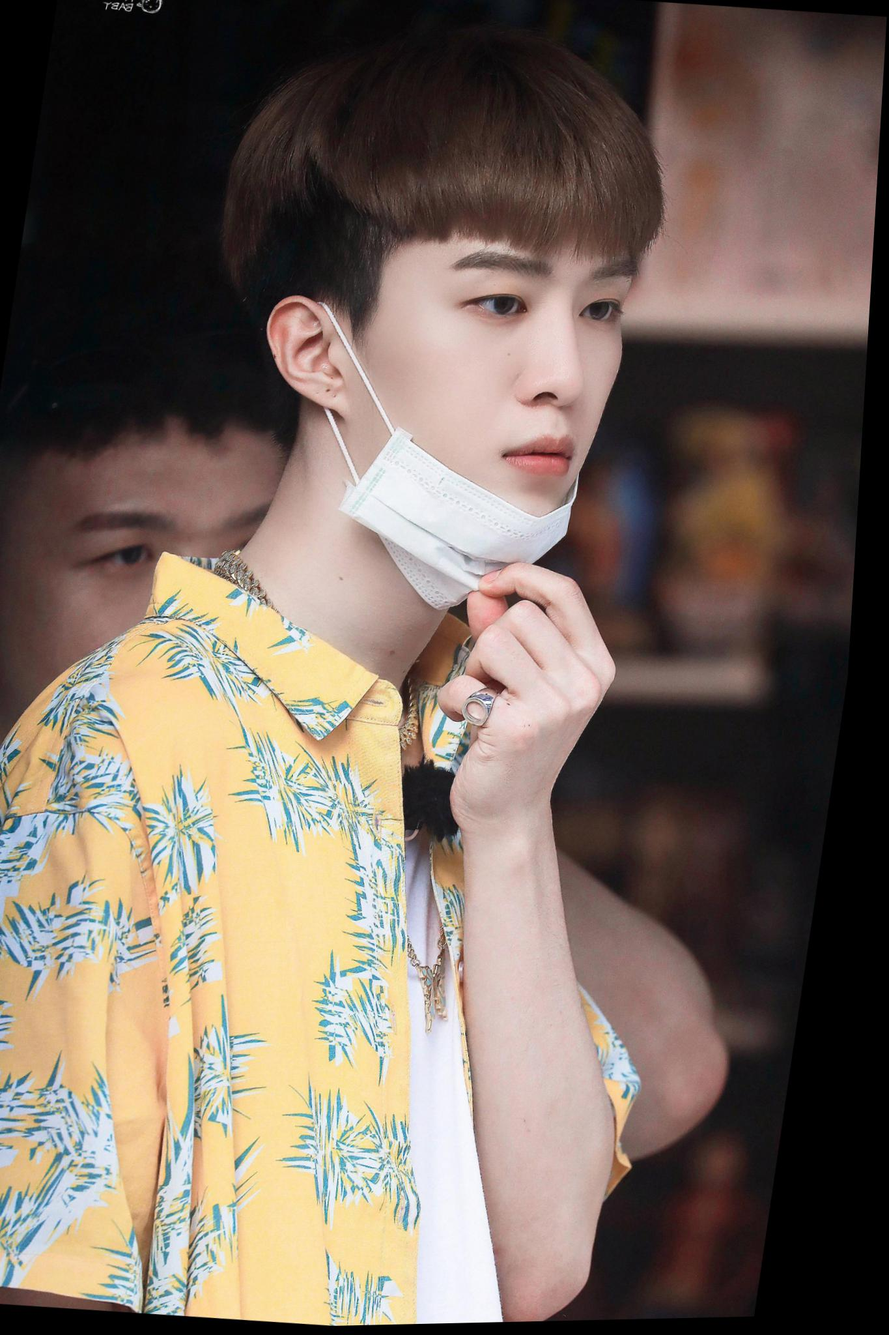NONE: (29, 451, 328, 776)
WRONG: (338, 185, 654, 577)
